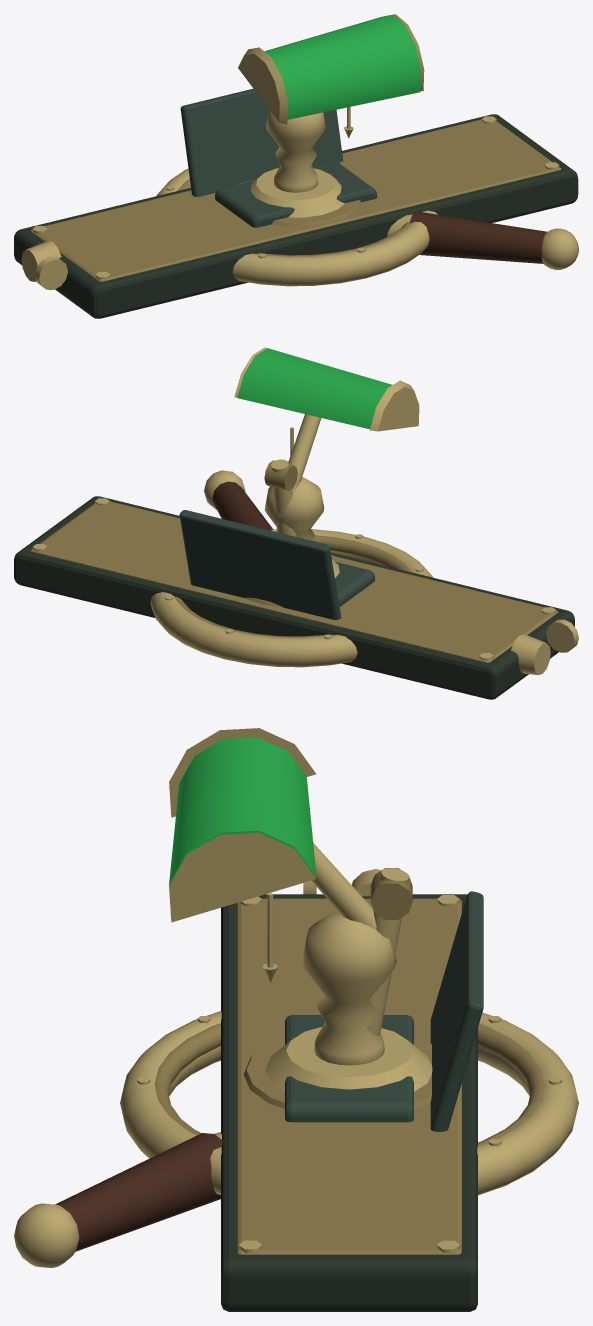
Rendered from desk_props.glb.
3 renders of one model, top to bottom at view 1: azimuth 30°, elevation 25°; view 2: azimuth 150°, elevation 25°; view 3: azimuth 270°, elevation 25°, orthographic. The views are drawn at different scales.
Visible parts, largest first — view 1: pneumatic_tube, bankers_lamp, magnifier_frame, ink_pad_tin, stamp_plunger, stamp_body; view 2: pneumatic_tube, bankers_lamp, magnifier_frame, ink_pad_tin, stamp_plunger, stamp_body; view 3: pneumatic_tube, bankers_lamp, magnifier_frame, stamp_plunger, ink_pad_tin, stamp_body.
Boxes of the visible parts, x1=… form: pneumatic_tube: x1=14, y1=114, x2=578, y2=318; bankers_lamp: x1=237, y1=14, x2=424, y2=226; magnifier_frame: x1=156, y1=150, x2=578, y2=286; ink_pad_tin: x1=180, y1=88, x2=343, y2=196; stamp_plunger: x1=266, y1=110, x2=325, y2=192; stamp_body: x1=215, y1=161, x2=377, y2=227; pneumatic_tube: x1=14, y1=496, x2=578, y2=699; bankers_lamp: x1=234, y1=347, x2=419, y2=607; magnifier_frame: x1=150, y1=470, x2=432, y2=667; ink_pad_tin: x1=179, y1=510, x2=341, y2=619; stamp_plunger: x1=264, y1=477, x2=324, y2=540; stamp_body: x1=335, y1=562, x2=374, y2=606; pneumatic_tube: x1=221, y1=869, x2=477, y2=1311; bankers_lamp: x1=169, y1=728, x2=432, y2=1108; magnifier_frame: x1=14, y1=1011, x2=578, y2=1267; stamp_plunger: x1=302, y1=911, x2=396, y2=1065; ink_pad_tin: x1=430, y1=891, x2=483, y2=1131; stamp_body: x1=285, y1=1015, x2=413, y2=1122.
Size of the model in its own units: 0.711 by 0.3018 by 0.4284.
